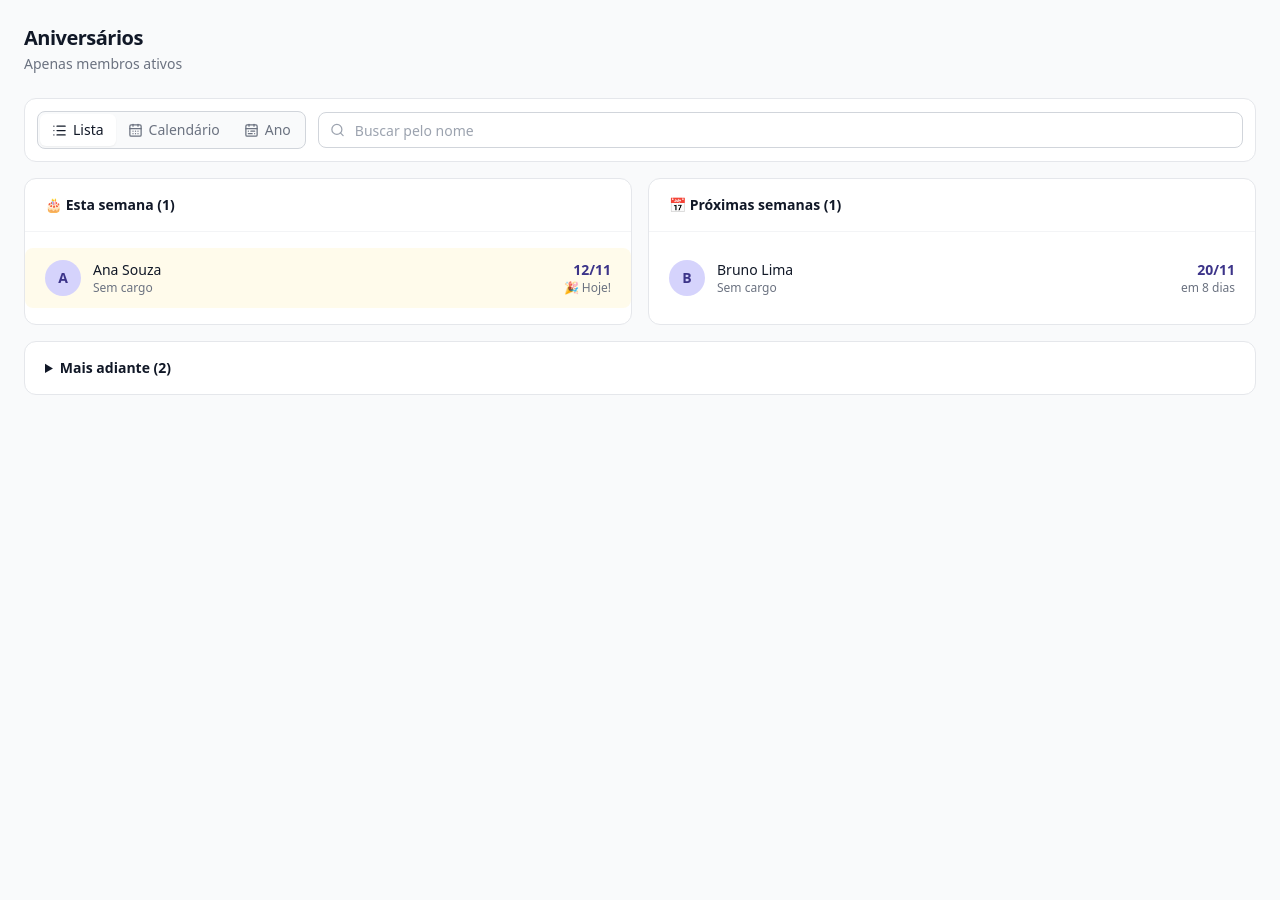
Test: AniversariosPage › a busca filtra também a visão do ano
This screenshot has width=1280, height=900.
Click the button "Ano": x=267, y=130 [232, 114, 303, 146]
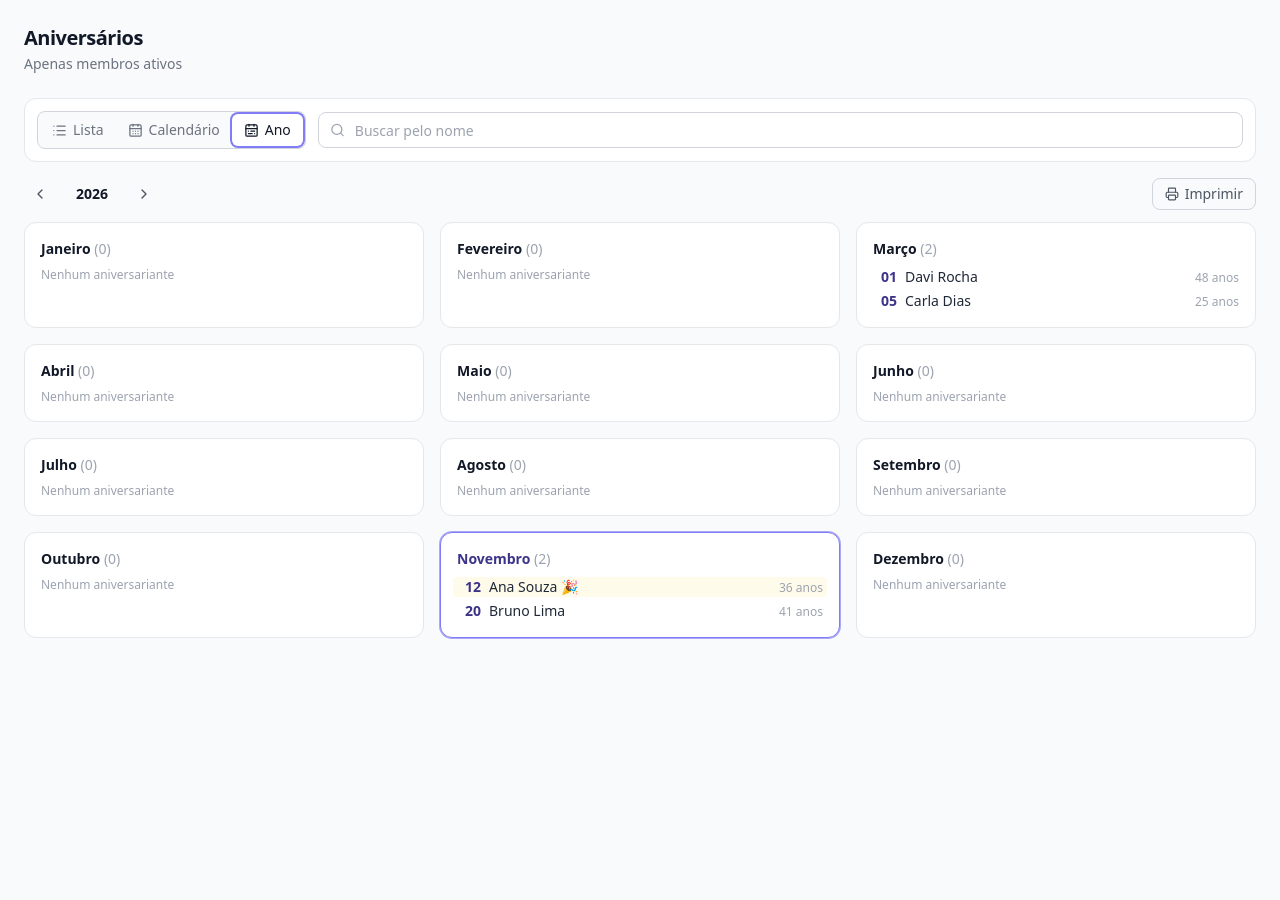
In the search field named "Buscar aniversariante": x=780, y=130 [318, 112, 1243, 148], type "carla"
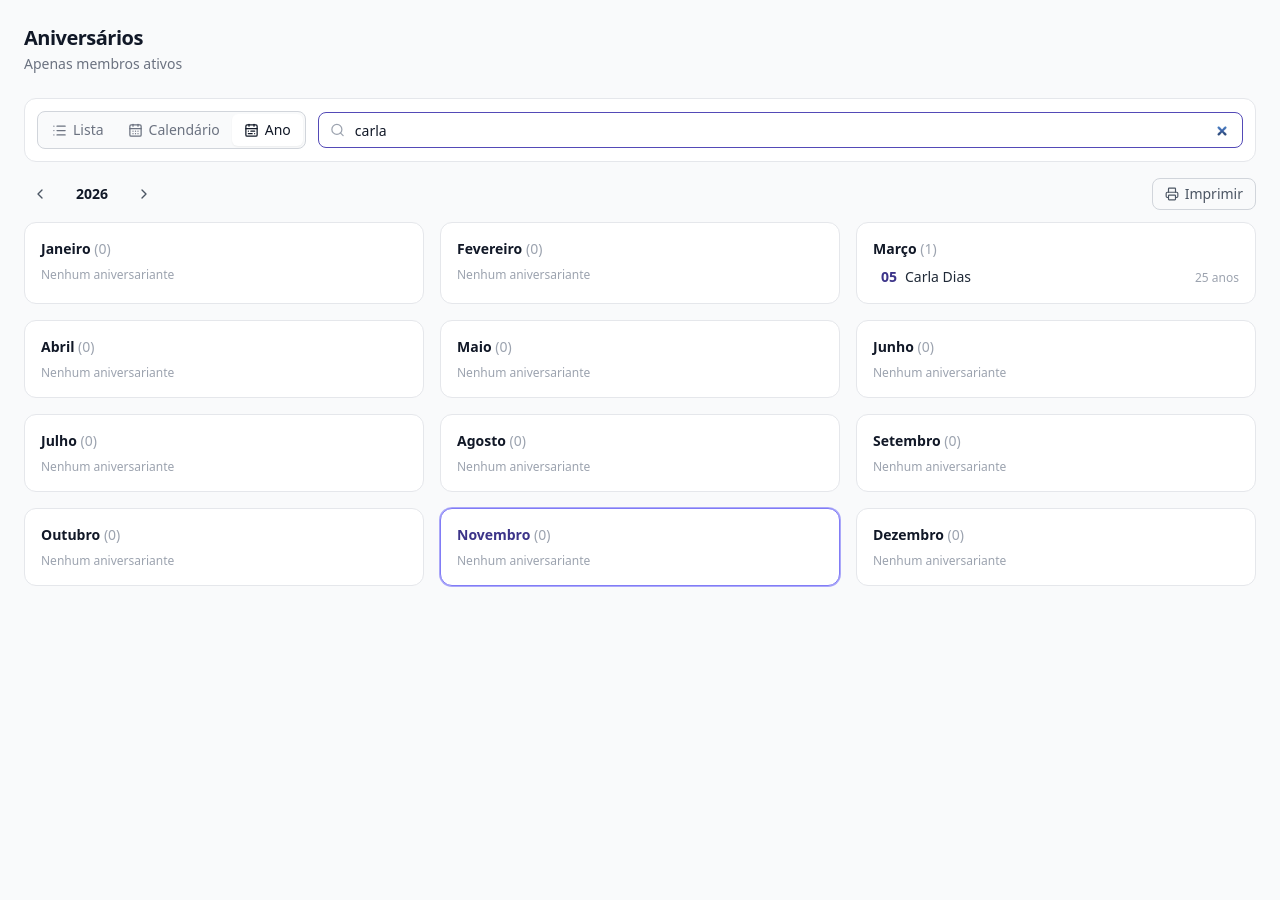
expect the number of list items is 1: met, box [873, 267, 1239, 287]
expect the text "Nenhum aniversariante" below "Novembro" is shown: met, box [457, 552, 590, 569]
